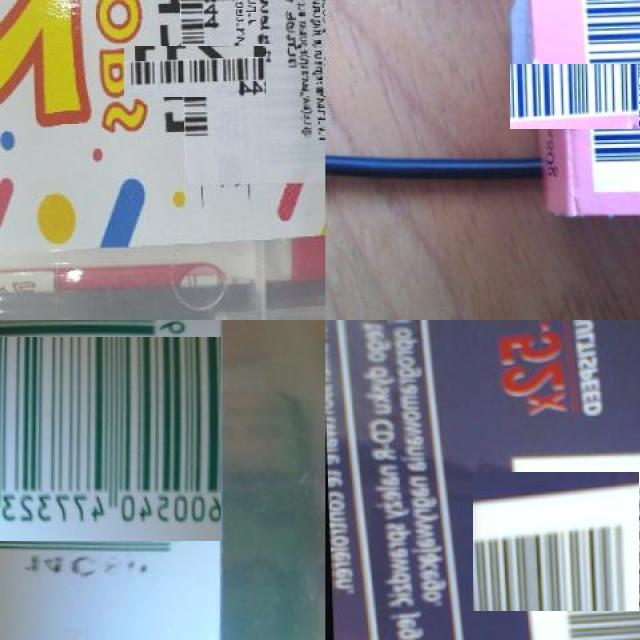Barcode: (0, 328, 212, 550), (486, 458, 640, 625), (542, 31, 640, 161), (146, 23, 243, 120)
